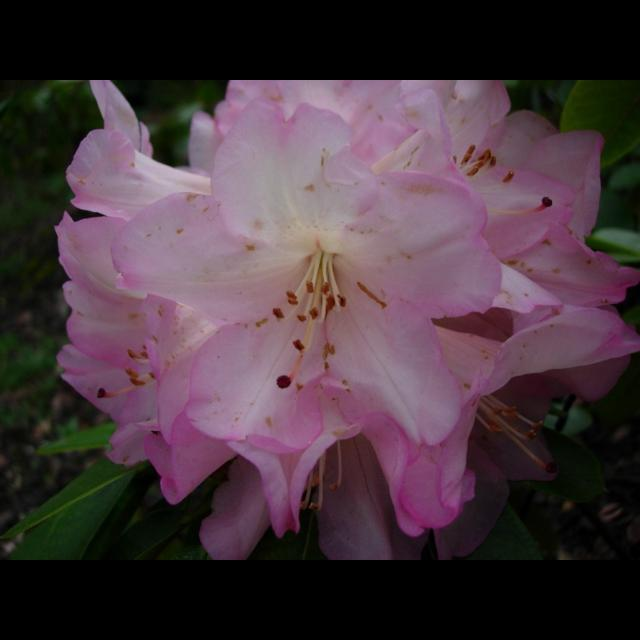Flower: (49, 91, 614, 555)
